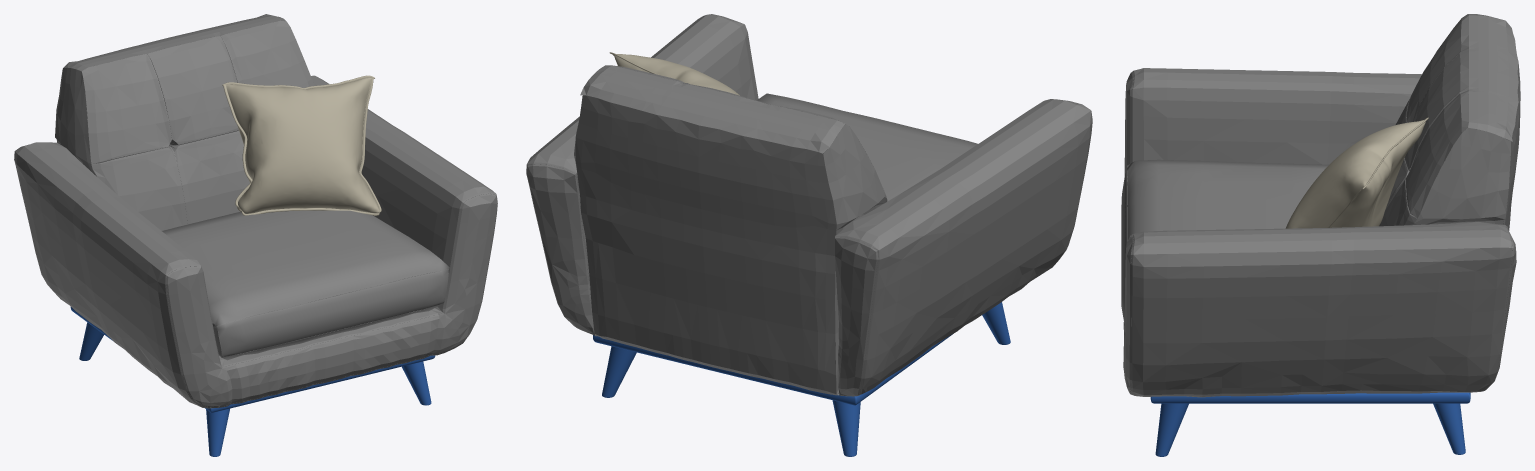
Rendered from Hughes Chair_fbx.FBX.
The picture shows the model from 3 angles, left to right: view 1: azimuth 30°, elevation 25°; view 2: azimuth 150°, elevation 25°; view 3: azimuth 270°, elevation 25°; orthographic projection. The views are drawn at different scales.
Parts seen in each view (by area): view 1: 7cgi_Joybird Hughes Chair01, 7cgi_Joybird Hughes Chair03, 7cgi_Joybird Hughes Chair02, 7cgi_Joybird Hughes Chair04, 7cgi_Joybird Hughes Chair00; view 2: 7cgi_Joybird Hughes Chair03, 7cgi_Joybird Hughes Chair01, 7cgi_Joybird Hughes Chair02, 7cgi_Joybird Hughes Chair00, 7cgi_Joybird Hughes Chair04; view 3: 7cgi_Joybird Hughes Chair01, 7cgi_Joybird Hughes Chair03, 7cgi_Joybird Hughes Chair02, 7cgi_Joybird Hughes Chair04, 7cgi_Joybird Hughes Chair00.
Part boxes in pixels (<box>): 7cgi_Joybird Hughes Chair01: <box>14,75,497,408</box>; 7cgi_Joybird Hughes Chair03: <box>55,14,314,230</box>; 7cgi_Joybird Hughes Chair02: <box>162,210,449,360</box>; 7cgi_Joybird Hughes Chair04: <box>222,75,381,215</box>; 7cgi_Joybird Hughes Chair00: <box>70,307,435,456</box>; 7cgi_Joybird Hughes Chair03: <box>574,65,887,395</box>; 7cgi_Joybird Hughes Chair01: <box>526,14,1092,396</box>; 7cgi_Joybird Hughes Chair02: <box>757,93,977,201</box>; 7cgi_Joybird Hughes Chair00: <box>593,302,1010,456</box>; 7cgi_Joybird Hughes Chair04: <box>609,52,739,95</box>; 7cgi_Joybird Hughes Chair01: <box>1123,68,1516,397</box>; 7cgi_Joybird Hughes Chair03: <box>1379,14,1520,230</box>; 7cgi_Joybird Hughes Chair02: <box>1121,159,1328,323</box>; 7cgi_Joybird Hughes Chair04: <box>1285,117,1428,228</box>; 7cgi_Joybird Hughes Chair00: <box>1150,392,1470,456</box>.
Bounding box in the file's own units: 108 × 87.15 × 96.7.
